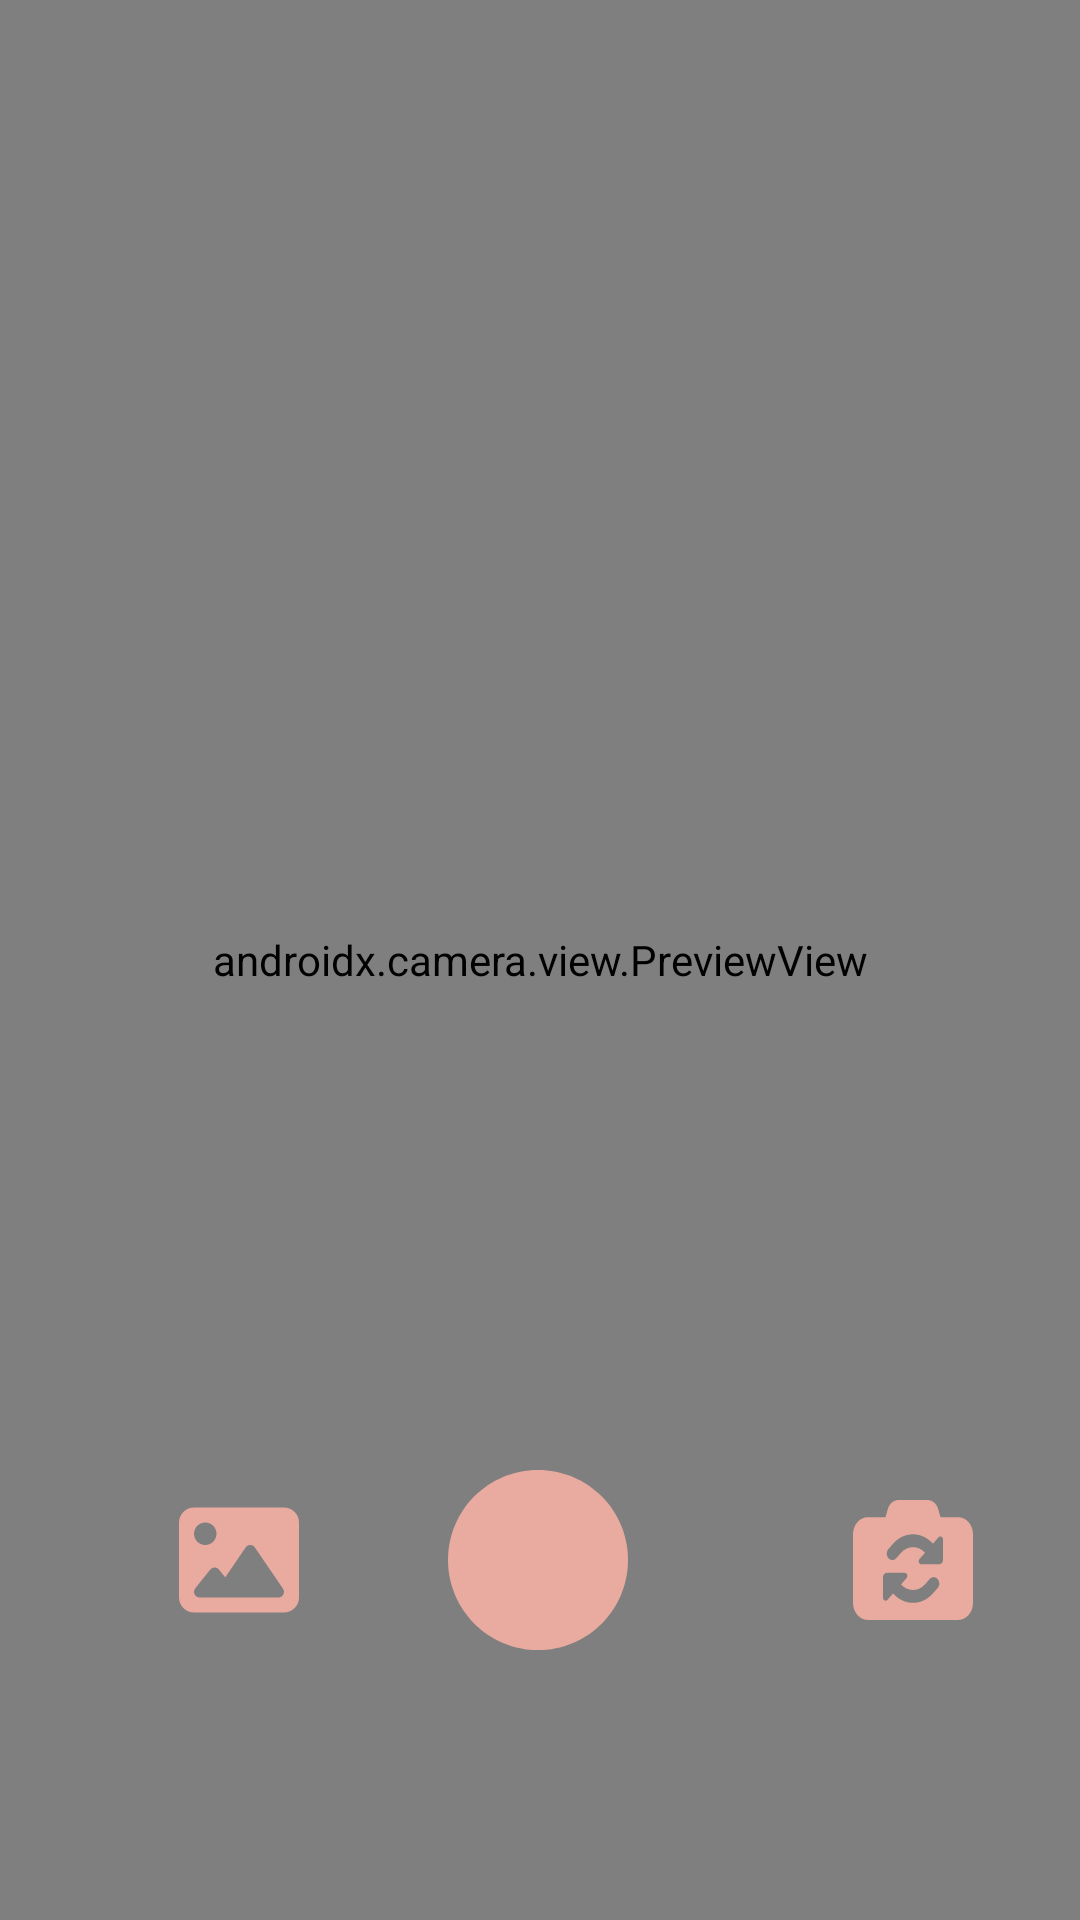

Named icons in this screenshot (1080px×1920px) and their centers, [x,y]:
Add Image: [239,1560]
Flip: [913,1560]
